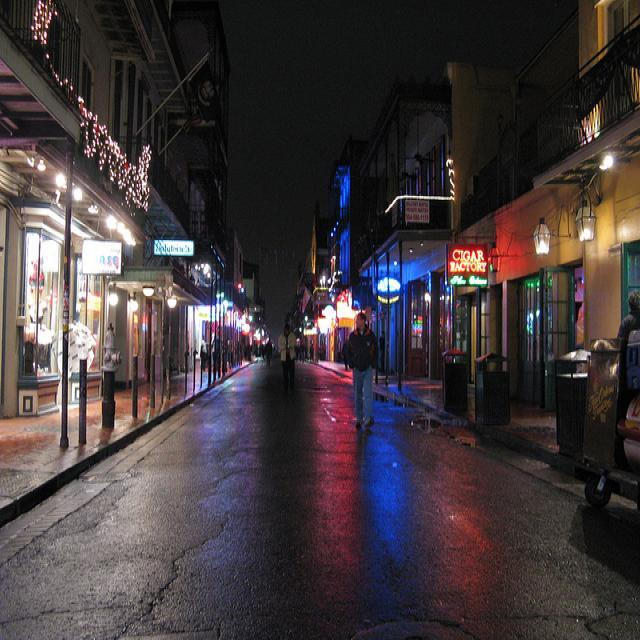fire_hydrant: (100, 321, 123, 428)
